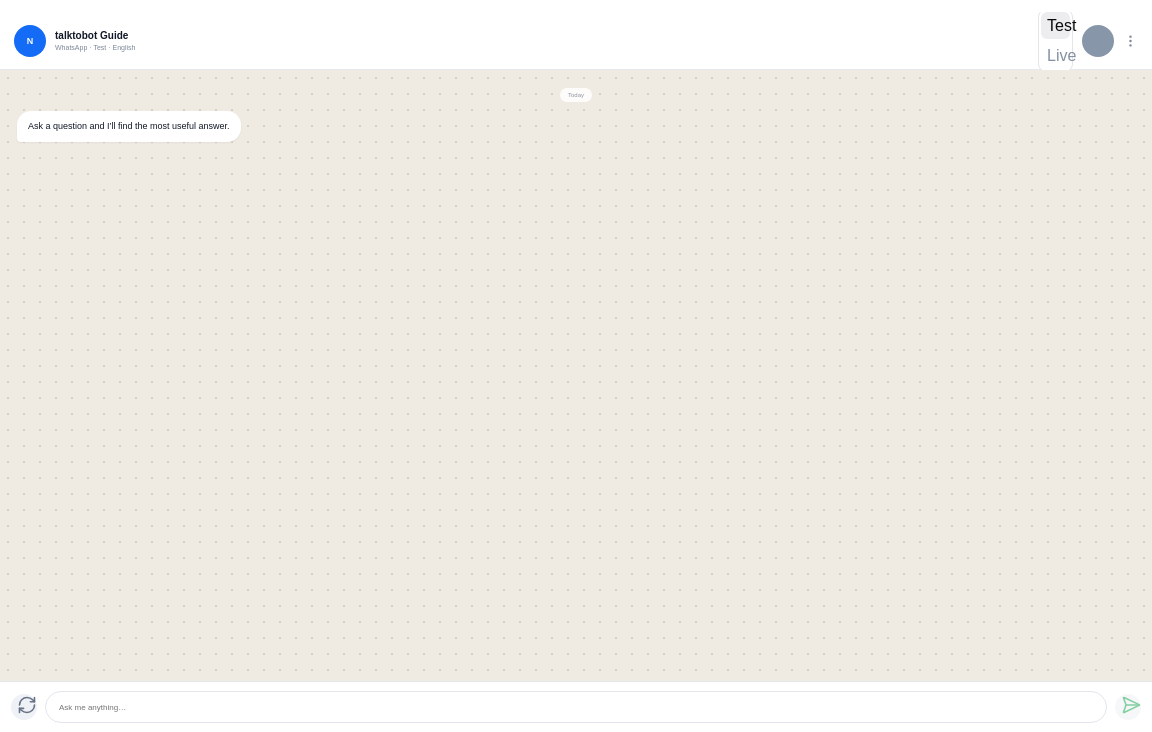
Scenario: Interactive channel workspace › lets the workspace owner chat with the selected agent in WhatsApp test mode
The width and height of the screenshot is (1152, 732).
Type "Can you help me?" into the field named "Test channel message".
click(576, 707); type("Can you help me?")  # box left=57, top=702, right=1095, bottom=712
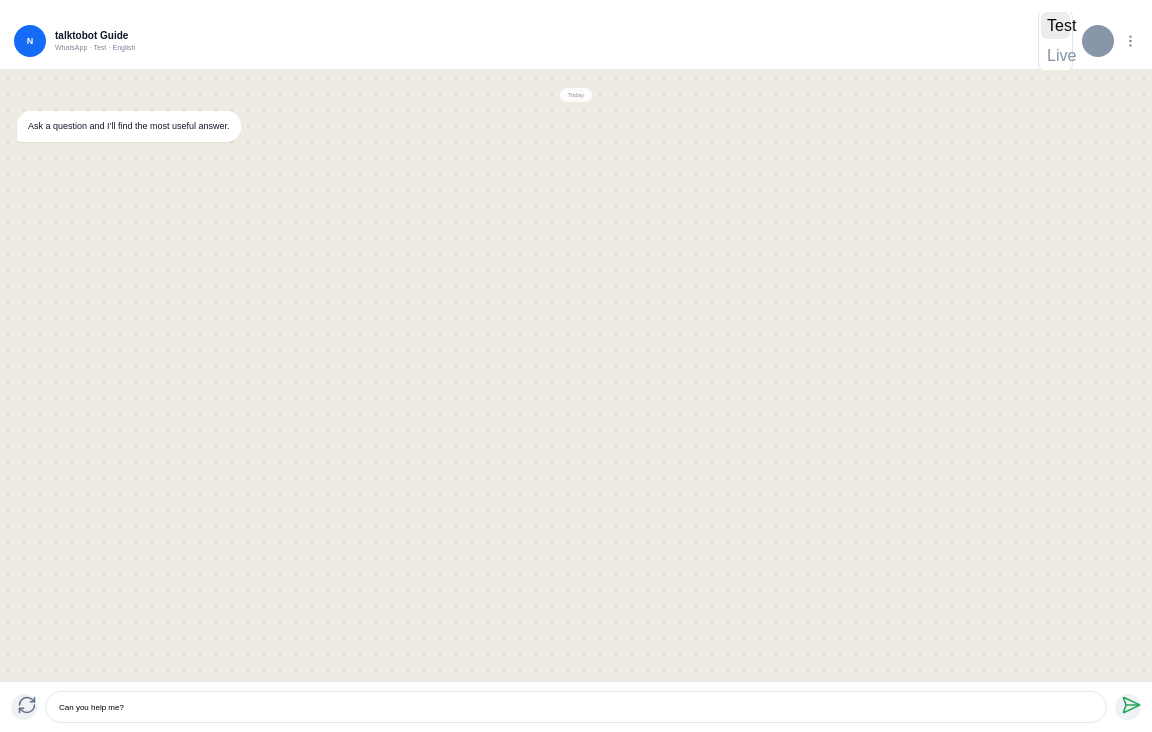
Click the button named "Send test message".
click(1128, 707)  # box left=1115, top=694, right=1141, bottom=720
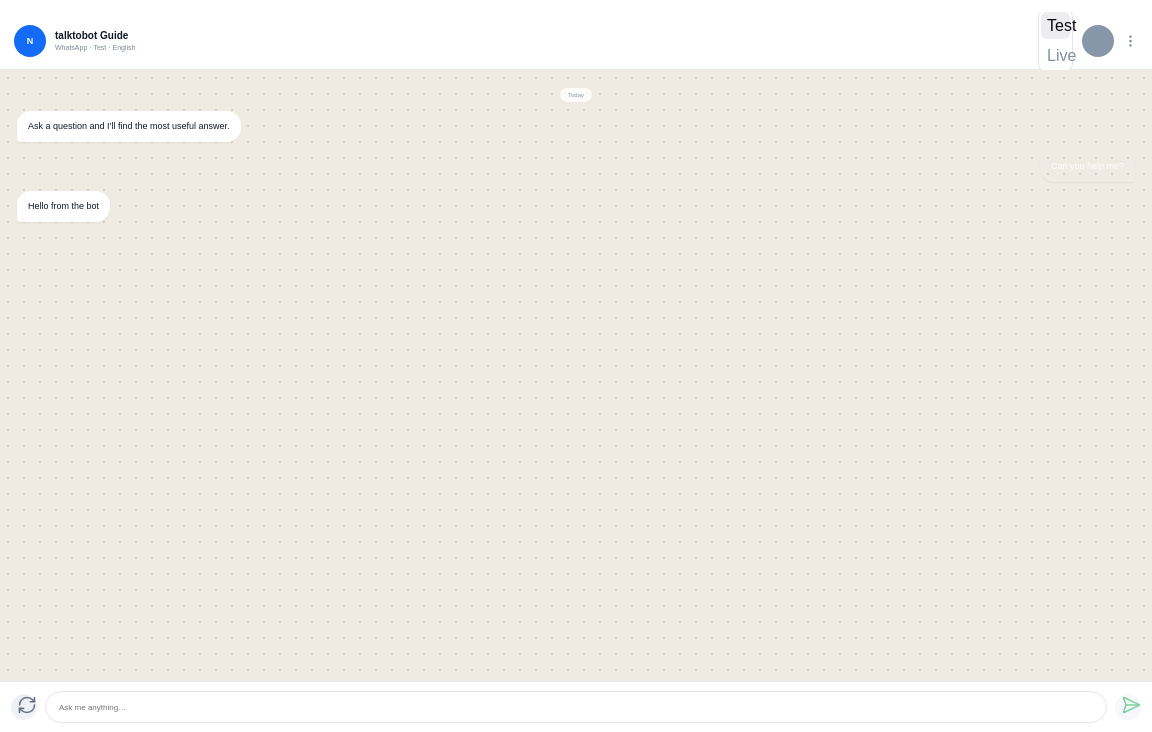
Result: the text "Hello from the bot" is shown at left=17, top=191, right=110, bottom=222
